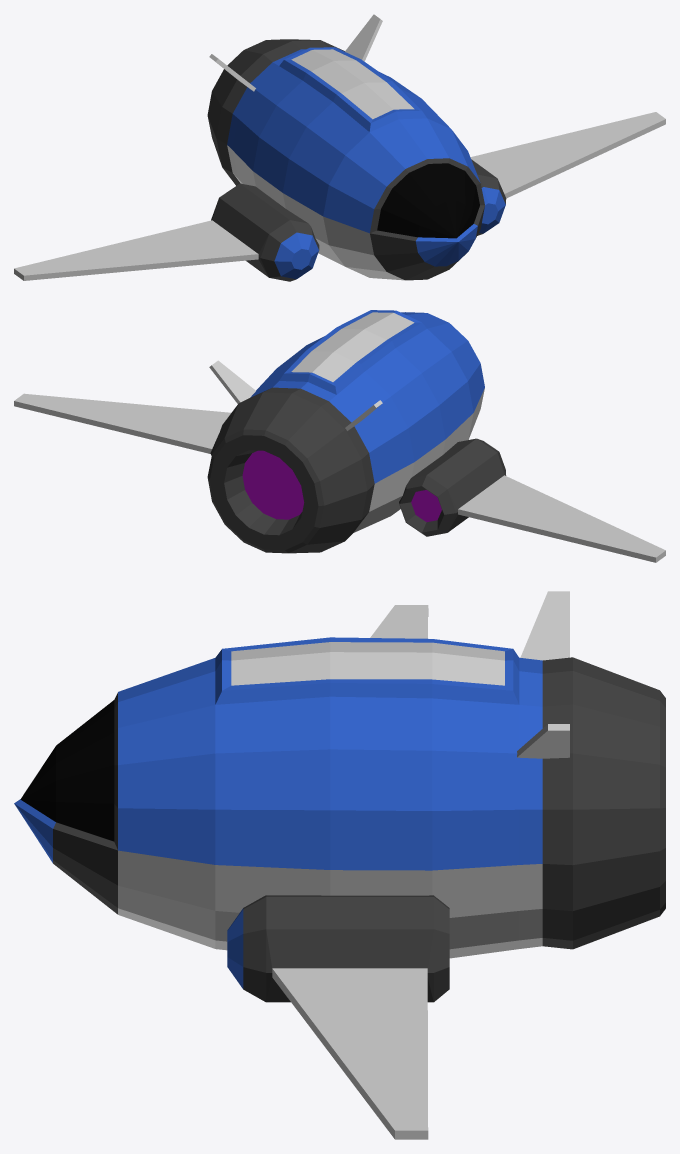
The model's file is Low_Poly_Spaceship_002.obj.
3 renders of one model, top to bottom at view 1: azimuth 30°, elevation 25°; view 2: azimuth 150°, elevation 25°; view 3: azimuth 270°, elevation 25°, orthographic. The views are drawn at different scales.
Parts seen in each view (by area): view 1: Low_Poly_Spaceship_002_Circle; view 2: Low_Poly_Spaceship_002_Circle; view 3: Low_Poly_Spaceship_002_Circle.
Part boxes in pixels (x1,y1,x2,y2): Low_Poly_Spaceship_002_Circle: (14, 14, 665, 281); Low_Poly_Spaceship_002_Circle: (14, 310, 665, 562); Low_Poly_Spaceship_002_Circle: (14, 591, 665, 1139).
Size of the model in its own units: 15.76 by 4.11 by 8.26.
